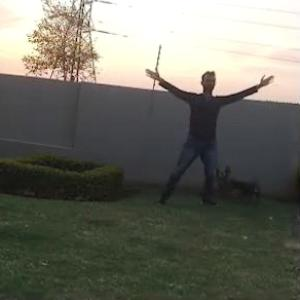takeoff: (146, 70, 263, 200)
